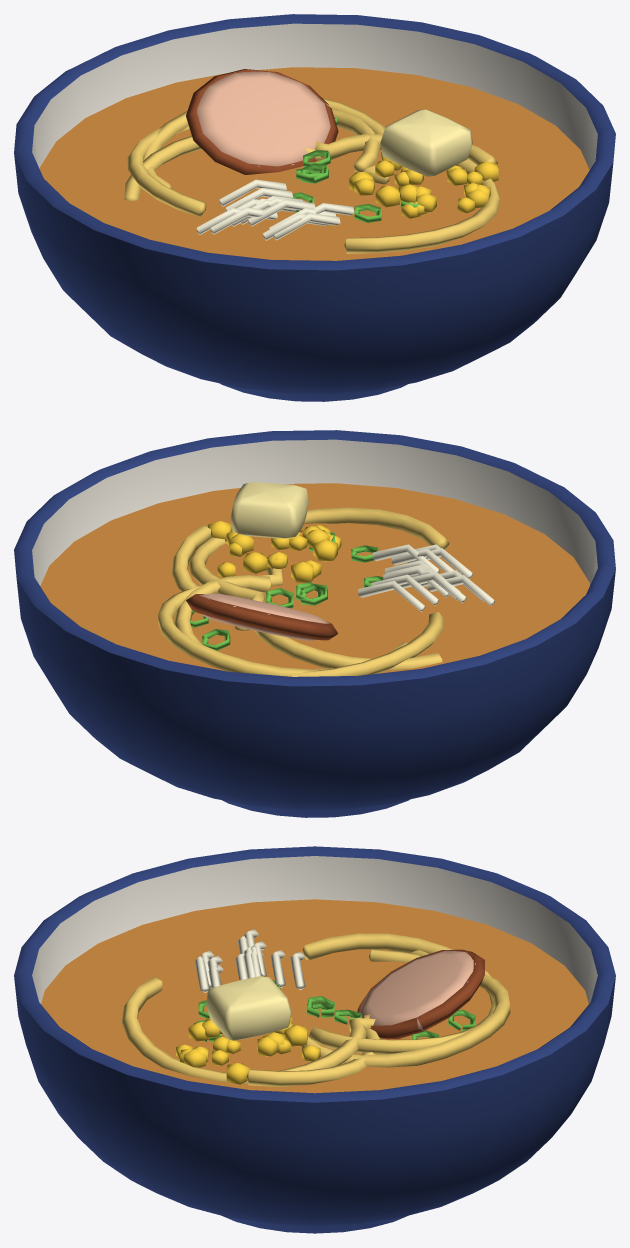
3 renders of one model, top to bottom at view 1: azimuth 30°, elevation 25°; view 2: azimuth 150°, elevation 25°; view 3: azimuth 270°, elevation 25°, orthographic.
Parts seen in each view (by area): view 1: bowl_outer, surface, bowl_inner, bowl_rim, noodles (×4), chashu, butter, chashu_rim, sprouts (×4); view 2: bowl_outer, surface, bowl_inner, bowl_rim, noodles (×4), butter, chashu_rim, chashu, sprouts (×2); view 3: bowl_outer, surface, bowl_inner, bowl_rim, noodles (×4), chashu, butter, chashu_rim.
Part boxes in pixels (x1=…): bowl_outer: x1=14, y1=153, x2=613, y2=401; surface: x1=40, y1=67, x2=589, y2=260; bowl_inner: x1=32, y1=23, x2=597, y2=169; bowl_rim: x1=14, y1=14, x2=615, y2=270; noodles (×4): x1=124, y1=98, x2=500, y2=253; chashu: x1=197, y1=71, x2=330, y2=166; butter: x1=380, y1=109, x2=472, y2=176; chashu_rim: x1=186, y1=69, x2=338, y2=174; sprouts (×4): x1=210, y1=179, x2=340, y2=240; bowl_outer: x1=16, y1=569, x2=615, y2=817; surface: x1=40, y1=483, x2=589, y2=673; bowl_inner: x1=32, y1=439, x2=597, y2=585; bowl_rim: x1=14, y1=430, x2=615, y2=686; noodles (×4): x1=158, y1=507, x2=449, y2=676; butter: x1=230, y1=482, x2=308, y2=538; chashu_rim: x1=186, y1=594, x2=338, y2=640; chashu: x1=199, y1=593, x2=329, y2=640; sprouts (×2): x1=358, y1=544, x2=439, y2=611; bowl_outer: x1=14, y1=976, x2=615, y2=1233; surface: x1=41, y1=899, x2=588, y2=1093; bowl_inner: x1=32, y1=856, x2=597, y2=1003; bowl_rim: x1=14, y1=846, x2=615, y2=1102; noodles (×4): x1=122, y1=933, x2=510, y2=1086; chashu: x1=359, y1=950, x2=475, y2=1030; butter: x1=206, y1=976, x2=291, y2=1040; chashu_rim: x1=357, y1=949, x2=484, y2=1039.
Size of the model in its own units: 0.2 by 0.0842 by 0.2.
